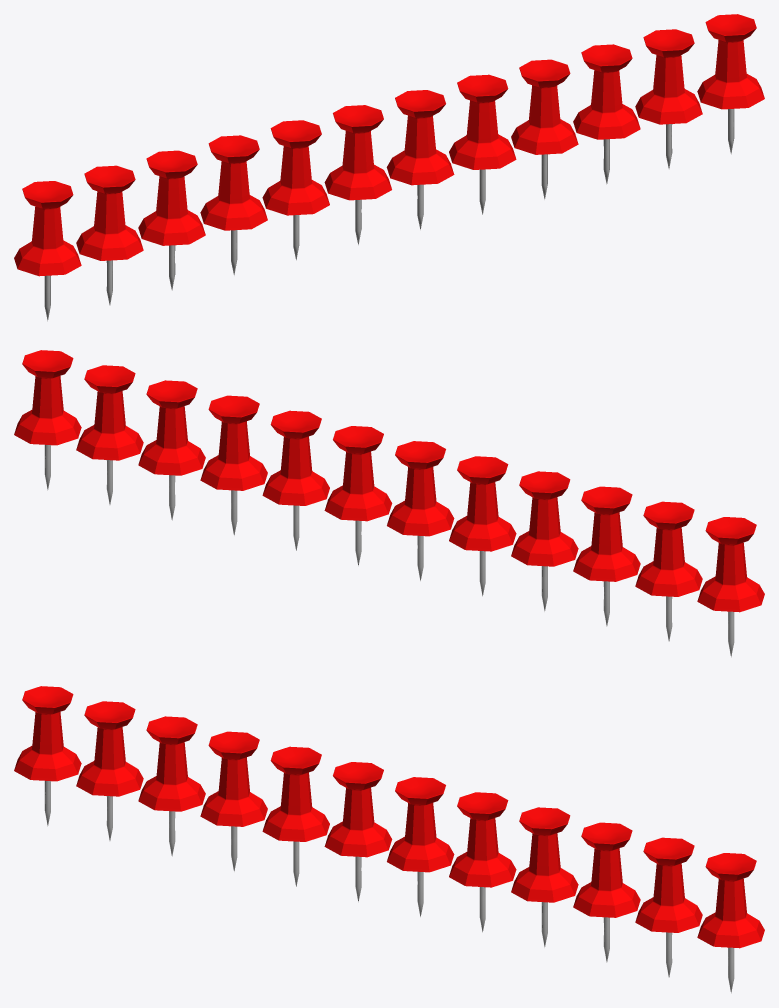
File: push-pins-1.fbx
The picture shows the model from 3 angles, top to bottom: view 1: azimuth 30°, elevation 25°; view 2: azimuth 150°, elevation 25°; view 3: azimuth 330°, elevation 25°; orthographic projection.
Parts seen in each view (by area): view 1: pushpin_plastic_pink_1, pushpin_plastic_teal_1, pushpin_plastic_purple_1, pushpin_plastic_green_1, pushpin_plastic_red_1, pushpin_plastic_black_1, pushpin_plastic_blue_1, pushpin_plastic_cyan_1, pushpin_plastic_clear_1, pushpin_plastic_yellow_1, pushpin_plastic_orange_1, pushpin_plastic_gray_1; view 2: pushpin_plastic_pink_1, pushpin_plastic_teal_1, pushpin_plastic_purple_1, pushpin_plastic_green_1, pushpin_plastic_red_1, pushpin_plastic_black_1, pushpin_plastic_blue_1, pushpin_plastic_cyan_1, pushpin_plastic_clear_1, pushpin_plastic_yellow_1, pushpin_plastic_orange_1, pushpin_plastic_gray_1; view 3: pushpin_plastic_blue_1, pushpin_plastic_green_1, pushpin_plastic_cyan_1, pushpin_plastic_black_1, pushpin_plastic_pink_1, pushpin_plastic_red_1, pushpin_plastic_purple_1, pushpin_plastic_teal_1, pushpin_plastic_yellow_1, pushpin_plastic_clear_1, pushpin_plastic_gray_1, pushpin_plastic_orange_1.
Part boxes in pixels (x1,y1,x2,y2): pushpin_plastic_pink_1: (200, 135, 267, 275); pushpin_plastic_teal_1: (324, 105, 391, 245); pushpin_plastic_purple_1: (262, 120, 329, 260); pushpin_plastic_green_1: (511, 59, 578, 199); pushpin_plastic_red_1: (697, 14, 764, 154); pushpin_plastic_black_1: (14, 181, 81, 321); pushpin_plastic_blue_1: (386, 90, 454, 230); pushpin_plastic_cyan_1: (449, 74, 516, 214); pushpin_plastic_clear_1: (138, 150, 205, 290); pushpin_plastic_yellow_1: (573, 44, 640, 184); pushpin_plastic_orange_1: (635, 29, 702, 169); pushpin_plastic_gray_1: (76, 165, 143, 305); pushpin_plastic_pink_1: (511, 471, 578, 611); pushpin_plastic_teal_1: (387, 441, 454, 581); pushpin_plastic_purple_1: (449, 456, 516, 596); pushpin_plastic_green_1: (200, 395, 267, 535); pushpin_plastic_red_1: (14, 350, 81, 490); pushpin_plastic_black_1: (697, 517, 764, 657); pushpin_plastic_blue_1: (324, 426, 392, 566); pushpin_plastic_cyan_1: (262, 410, 329, 550); pushpin_plastic_clear_1: (573, 486, 640, 626); pushpin_plastic_yellow_1: (138, 380, 205, 520); pushpin_plastic_orange_1: (76, 365, 143, 505); pushpin_plastic_gray_1: (635, 501, 702, 641); pushpin_plastic_blue_1: (387, 777, 454, 917); pushpin_plastic_green_1: (511, 807, 578, 947); pushpin_plastic_cyan_1: (449, 792, 516, 932); pushpin_plastic_black_1: (14, 686, 81, 826); pushpin_plastic_pink_1: (200, 731, 267, 871); pushpin_plastic_red_1: (697, 853, 764, 993); pushpin_plastic_purple_1: (262, 746, 329, 886); pushpin_plastic_teal_1: (324, 762, 392, 902); pushpin_plastic_yellow_1: (573, 822, 640, 962); pushpin_plastic_clear_1: (138, 716, 205, 856); pushpin_plastic_gray_1: (76, 701, 143, 841); pushpin_plastic_orange_1: (635, 837, 702, 977).
Size of the model in its own units: 47.91 by 8.02 by 3.91.
